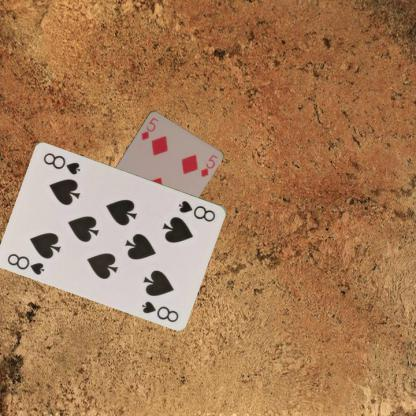5d: (138, 114, 160, 141)
8s: (176, 198, 217, 223), (5, 251, 46, 276)
